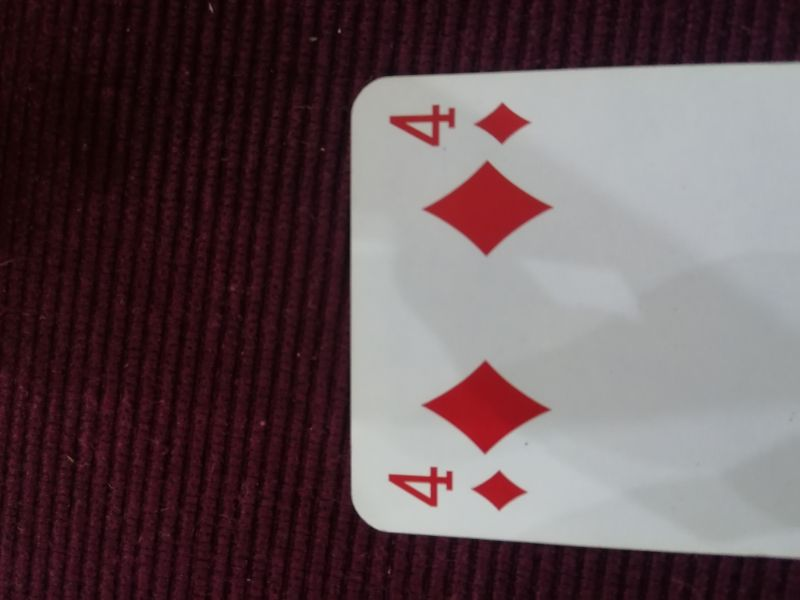4d: (381, 97, 541, 151), (386, 459, 530, 515)
